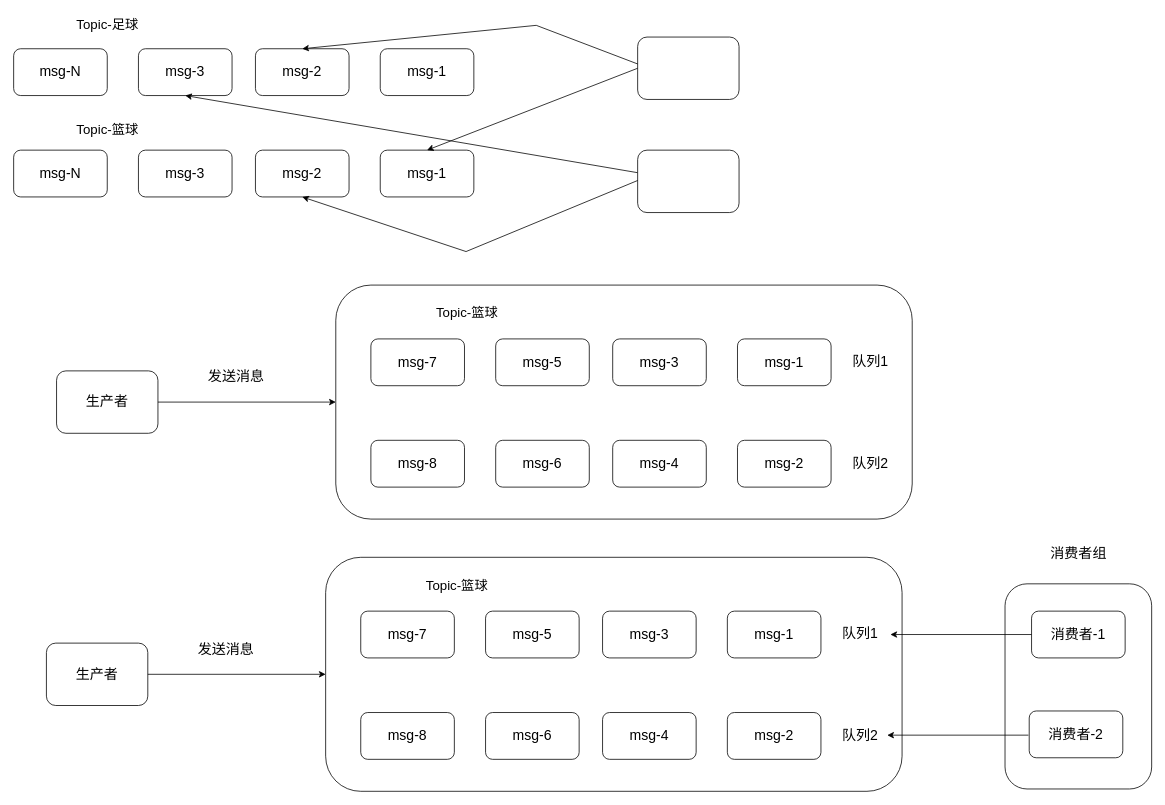
Some shapes in this 1165 by 805 pixel diagram are drawn without their labels. The shapes that lost their labels are listed below. From the top down, each one's centre as x and y in pixels, then its label:
At point (688, 67): "小A".
At point (688, 181): "小B".
